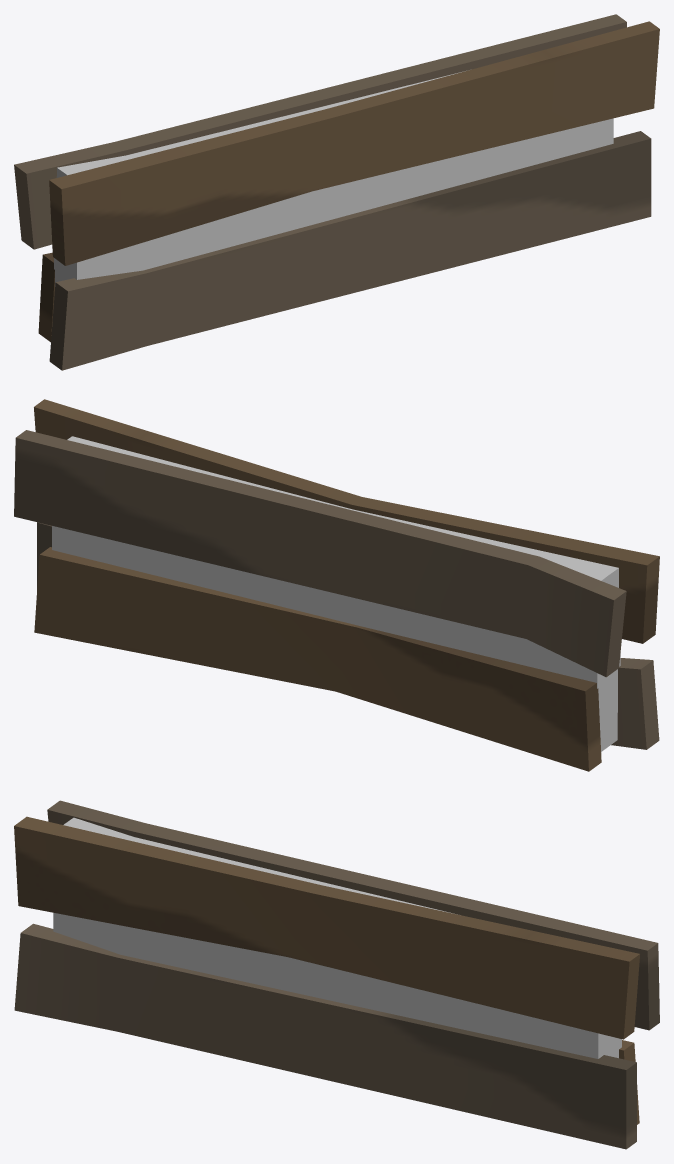
The model's file is SM_Bld_Wall_Quarter_01.fbx.
3 renders of one model, top to bottom at view 1: azimuth 30°, elevation 25°; view 2: azimuth 150°, elevation 25°; view 3: azimuth 330°, elevation 25°, orthographic.
Visible parts, largest first — view 1: SM_Bld_Wall_Quarter_01; view 2: SM_Bld_Wall_Quarter_01; view 3: SM_Bld_Wall_Quarter_01.
Boxes of the visible parts, x1,y1,x2,y2 form: SM_Bld_Wall_Quarter_01: (14,14,659,370); SM_Bld_Wall_Quarter_01: (14,399,659,771); SM_Bld_Wall_Quarter_01: (14,800,659,1149).
Bounding box in the file's own units: 281 × 87.33 × 37.48.
